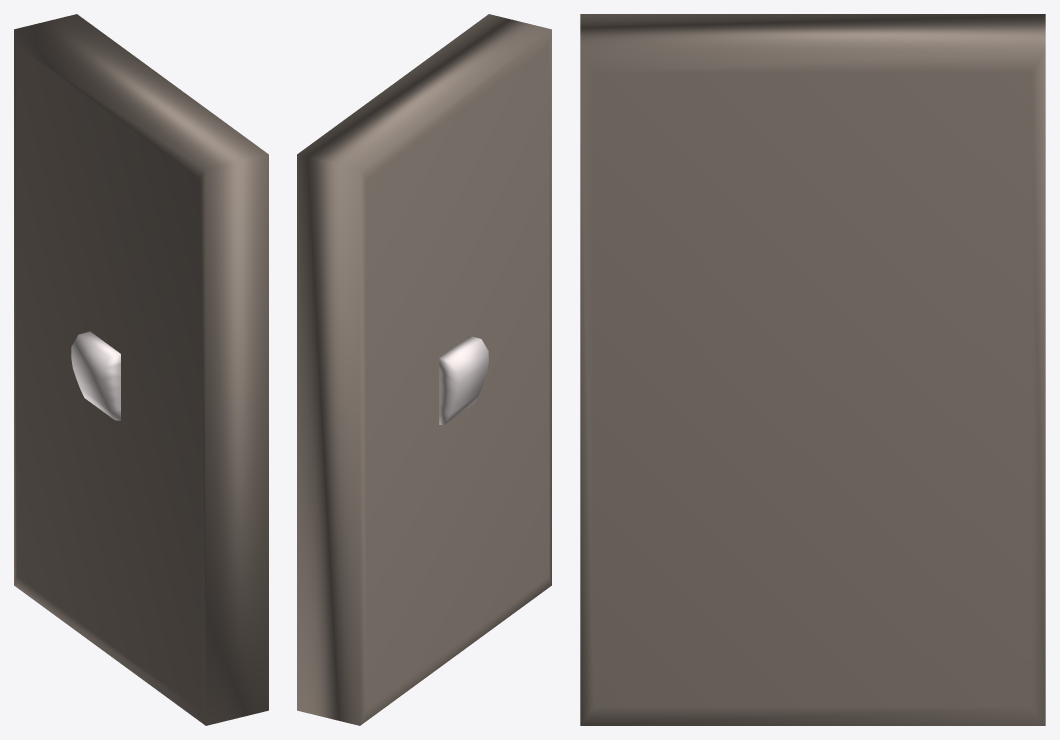
File: lightswitch.fbx
3 views of the same model, side by side, from view 1: azimuth 30°, elevation 25°; view 2: azimuth 150°, elevation 25°; view 3: azimuth 270°, elevation 25° (orthographic). The views are drawn at different scales.
Parts seen in each view (by area): view 1: LightSwitch; view 2: LightSwitch; view 3: LightSwitch.
Part boxes in pixels (x1=…): LightSwitch: x1=14, y1=14, x2=268, y2=725; LightSwitch: x1=297, y1=14, x2=551, y2=725; LightSwitch: x1=580, y1=14, x2=1045, y2=725.
Bounding box in the file's own units: 1.29 × 8 × 5.
